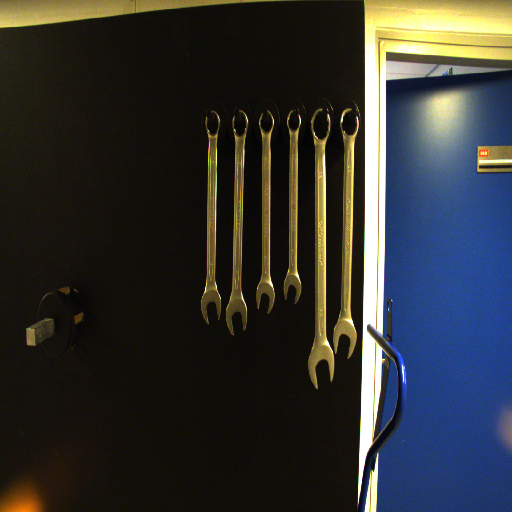bottom: (304, 343, 335, 390), (331, 317, 358, 358), (195, 290, 224, 327), (225, 296, 248, 336), (253, 279, 277, 315), (280, 272, 303, 305)
top: (310, 106, 333, 144), (338, 106, 361, 140), (201, 108, 223, 138), (230, 109, 251, 140), (254, 110, 276, 137), (283, 107, 303, 135)
